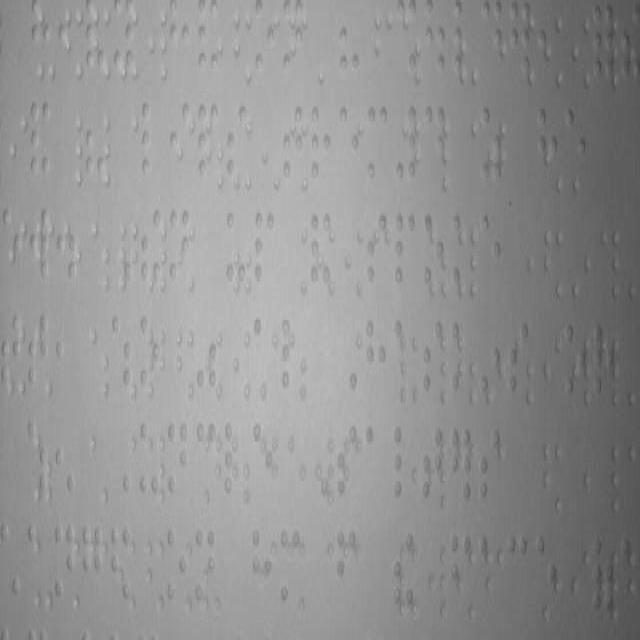braiile: (252, 209, 278, 289), (224, 98, 248, 182), (365, 102, 389, 186), (336, 101, 359, 188), (165, 417, 189, 499), (534, 530, 558, 612), (310, 106, 334, 186), (564, 104, 588, 184), (479, 209, 503, 289), (364, 423, 388, 501), (53, 523, 77, 601), (140, 100, 163, 180), (421, 316, 444, 396), (394, 211, 418, 287), (479, 1, 503, 75), (0, 306, 22, 386), (166, 524, 188, 604), (507, 531, 529, 611), (254, 1, 276, 79), (168, 0, 190, 76), (478, 426, 499, 504), (111, 0, 133, 71), (394, 424, 414, 500), (425, 107, 445, 182), (366, 320, 386, 391)
